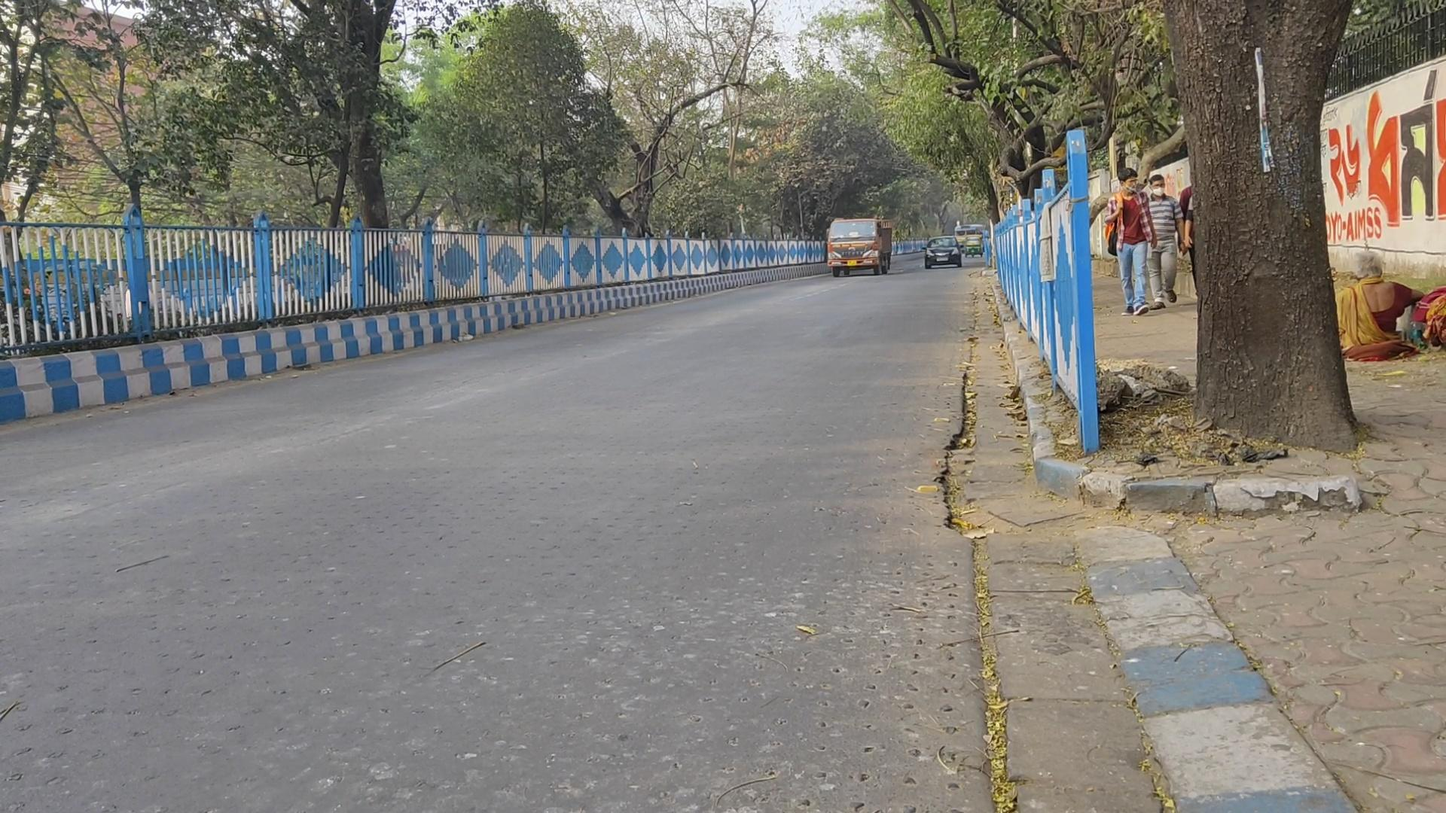Auto: (965, 234, 984, 259)
car: (1109, 165, 1155, 312), (924, 236, 963, 268)
van: (826, 216, 892, 279)
